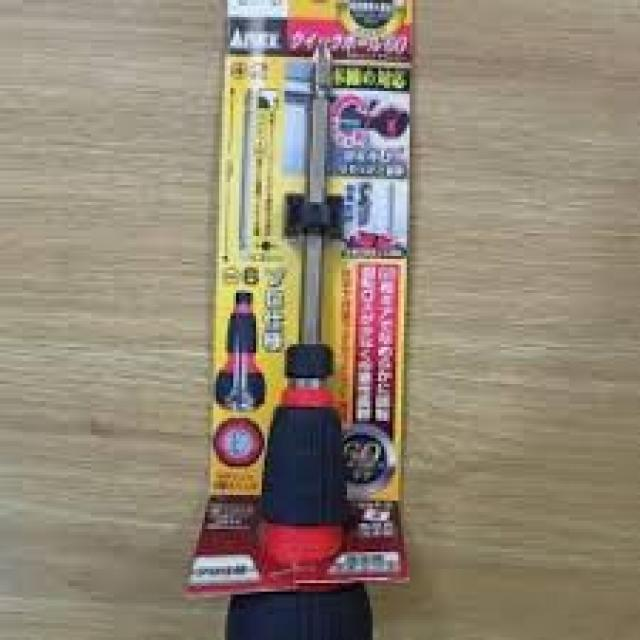screwdriver: (249, 37, 354, 592)
